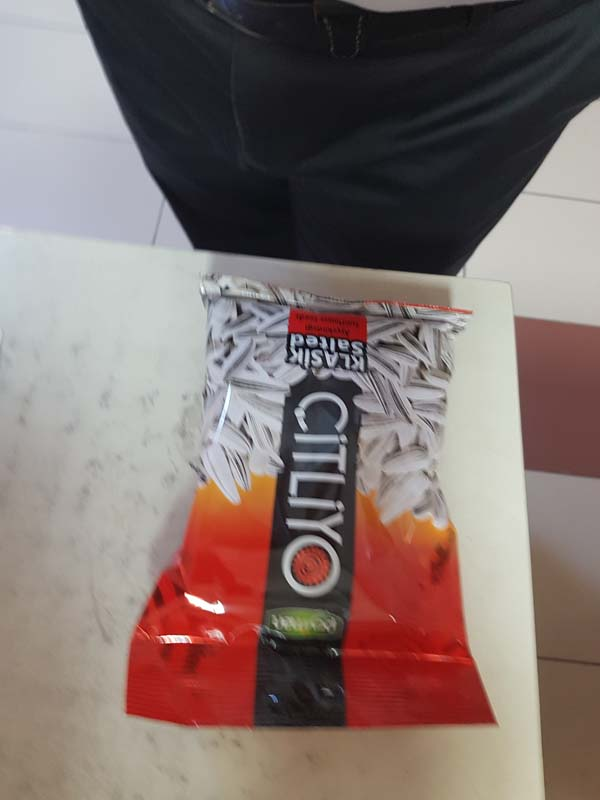citliyorklasik: (118, 263, 504, 737)
